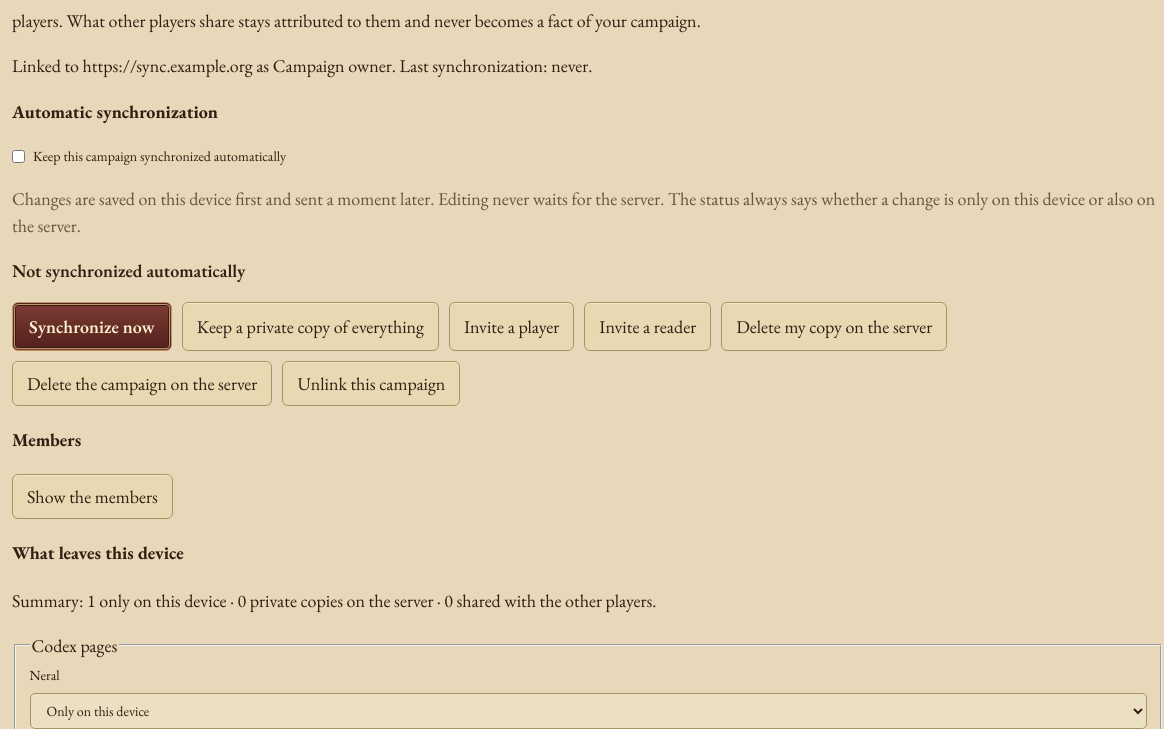
Test: automatic synchronization is an explicit opt-in that can be paused, and says what it will do
(page scrolled)
Expected: the button "Pause automatic synchronization" is not shown
Click the checkbox labelled "Keep this campaign synchronized automatically": (18, 157) [12,150,25,163]
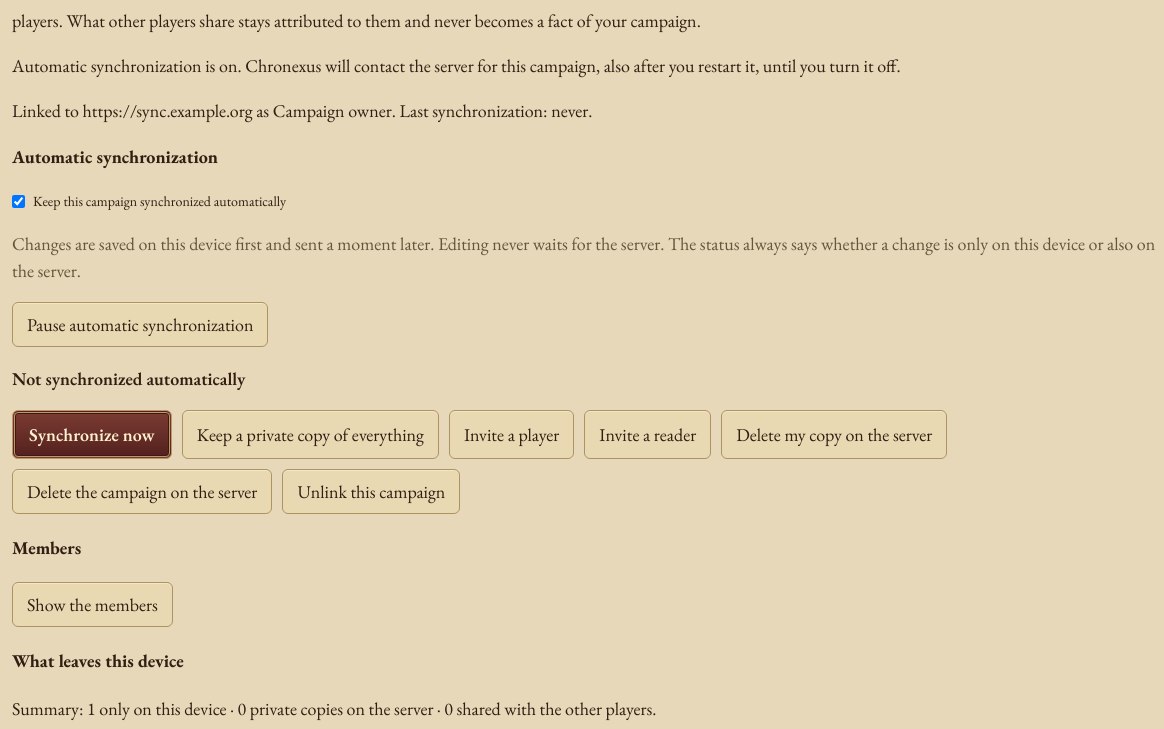
Now the text "Chronexus will contact the server" is shown, box [12,54,901,76]
Click the button "Pause automatic synchronization": (140, 325) [12,302,268,347]
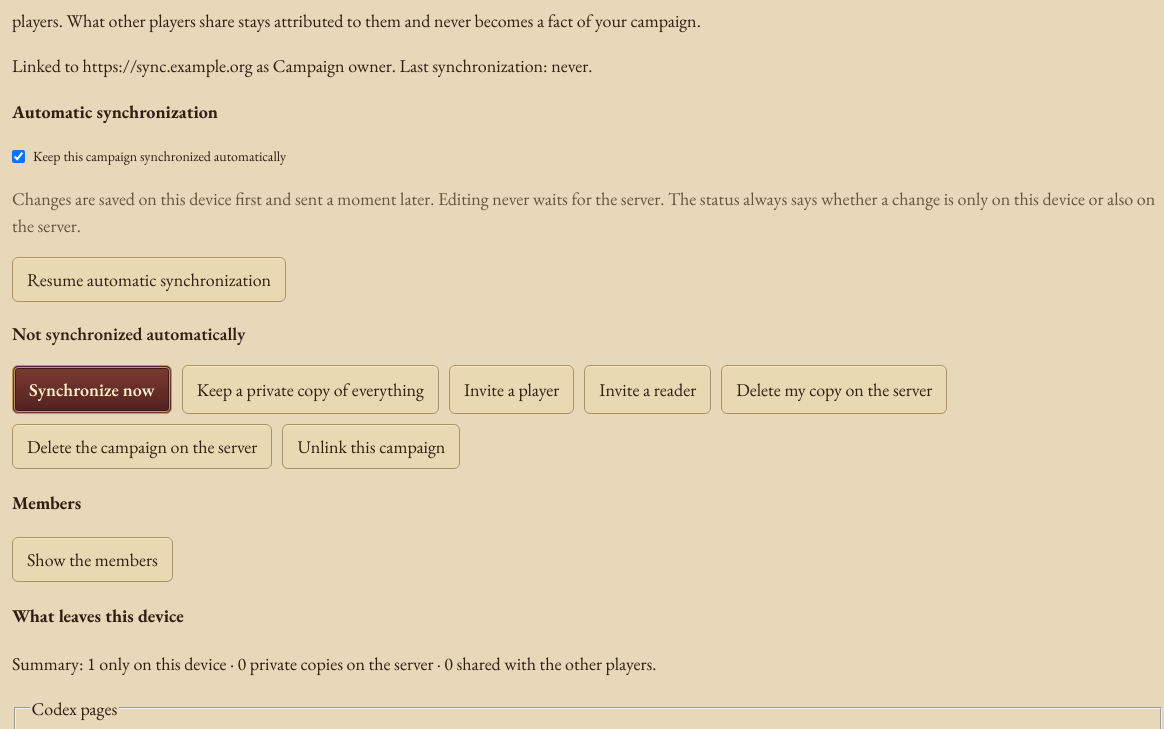
Now the button "Resume automatic synchronization" is shown, box [12,257,286,302]
